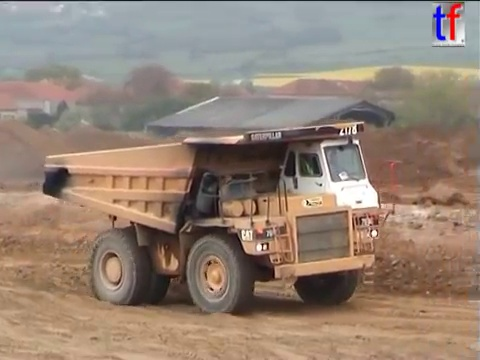truck: (39, 118, 403, 316)
